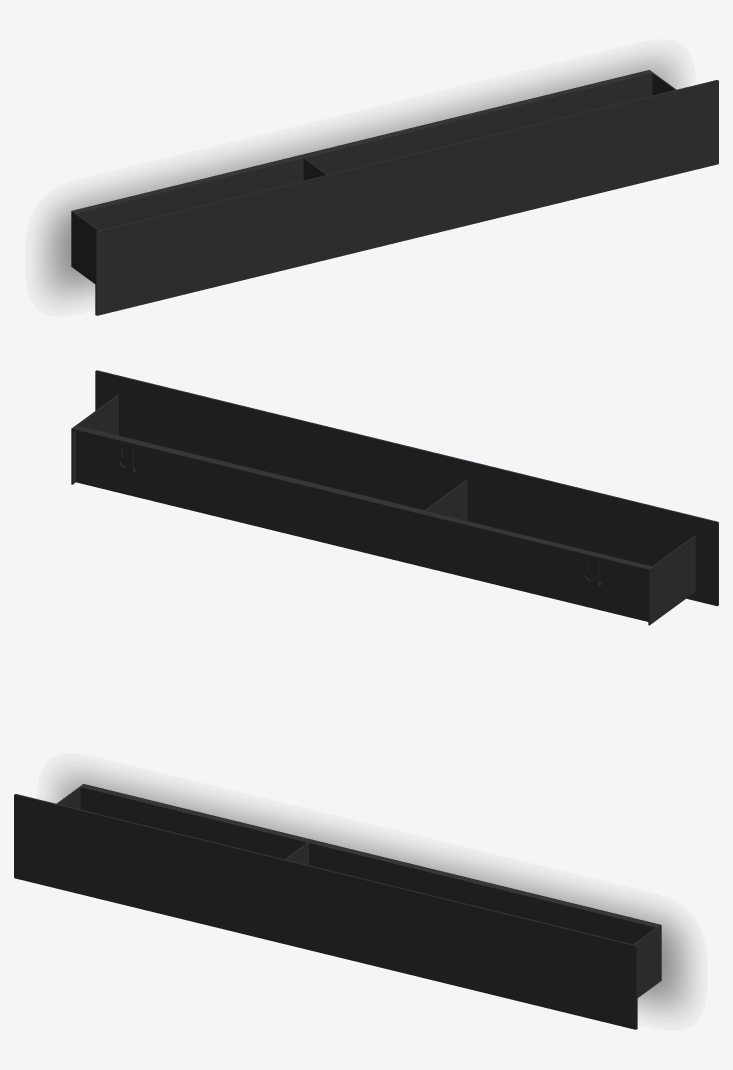
Rendered from skyline-double.decb29703d.ar.glb.
The picture shows the model from 3 angles, top to bottom: view 1: azimuth 30°, elevation 25°; view 2: azimuth 150°, elevation 25°; view 3: azimuth 330°, elevation 25°; orthographic projection.
Parts seen in each view (by area): view 1: NAUO1, object 2; view 2: NAUO1; view 3: NAUO1, object 2.
Boxes of the visible parts, <box> form: NAUO1: <box>71,70,718,315</box>; object 2: <box>42,59,678,296</box>; NAUO1: <box>71,370,718,625</box>; NAUO1: <box>14,784,661,1029</box>; object 2: <box>54,773,690,1010</box>.
Bounding box in the file's own units: 0.78 × 0.17 × 0.092.
Materials: 2 (1 with a texture image).
